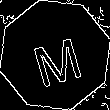M_N: (26, 24, 84, 86)
